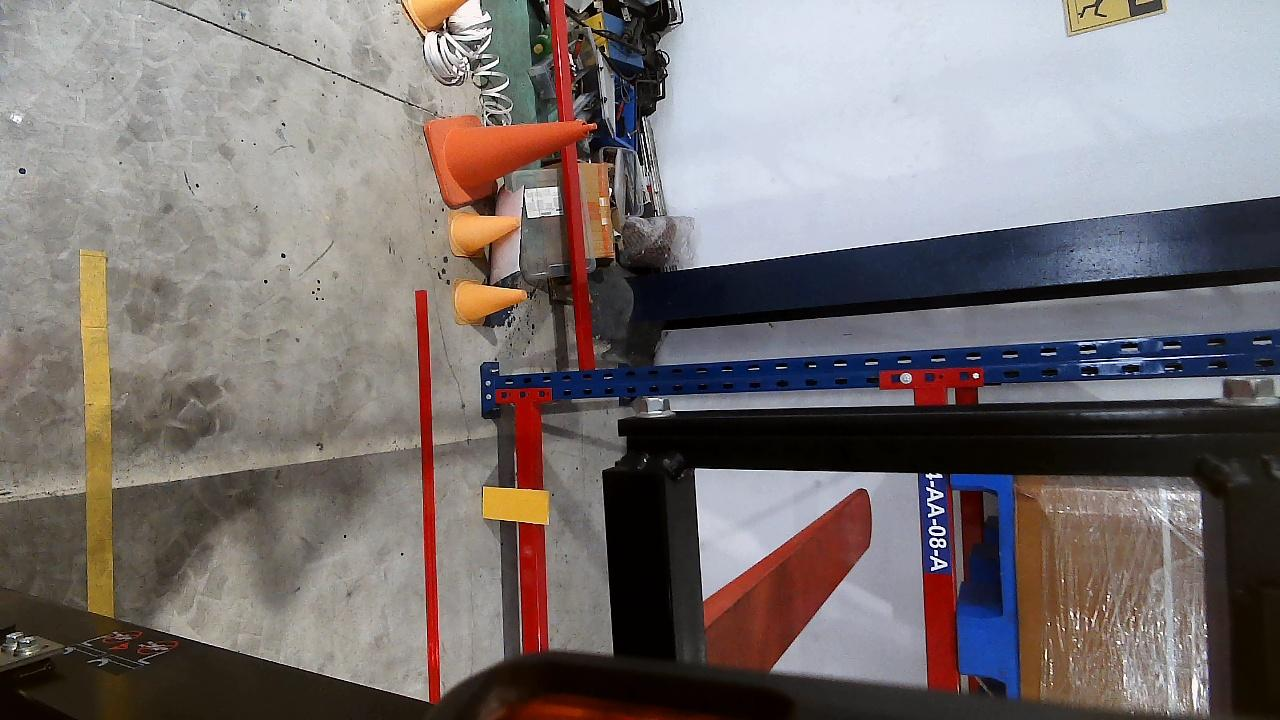h_rack: (911, 387, 964, 694), (512, 402, 545, 652)
orange_strip: (482, 487, 550, 523)
red_line: (414, 291, 445, 704)
small_pallet: (948, 478, 1023, 698)
yellow_line: (80, 249, 113, 616)
